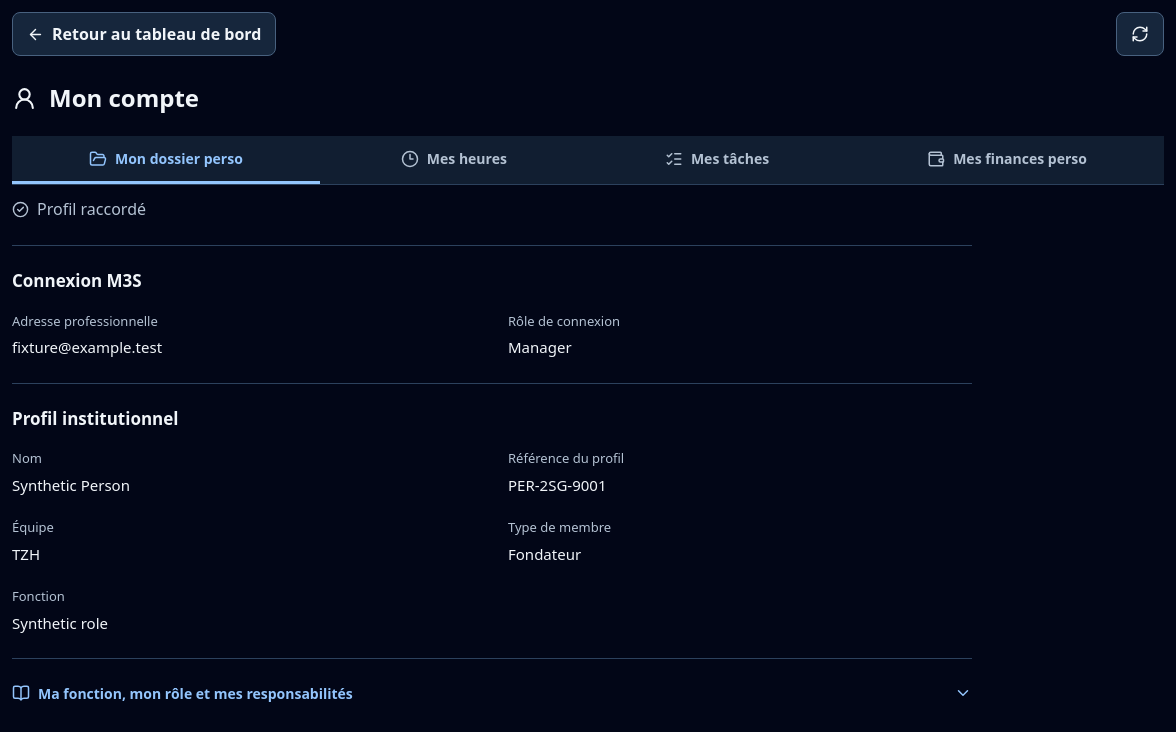
Scenario: refresh failure clears previously displayed private profile
Check: the text "Synthetic Person" is shown, box 12,474 -> 130,494
Click the button named "Actualiser".
click(1140, 34)  # box 1116,12 -> 1164,56
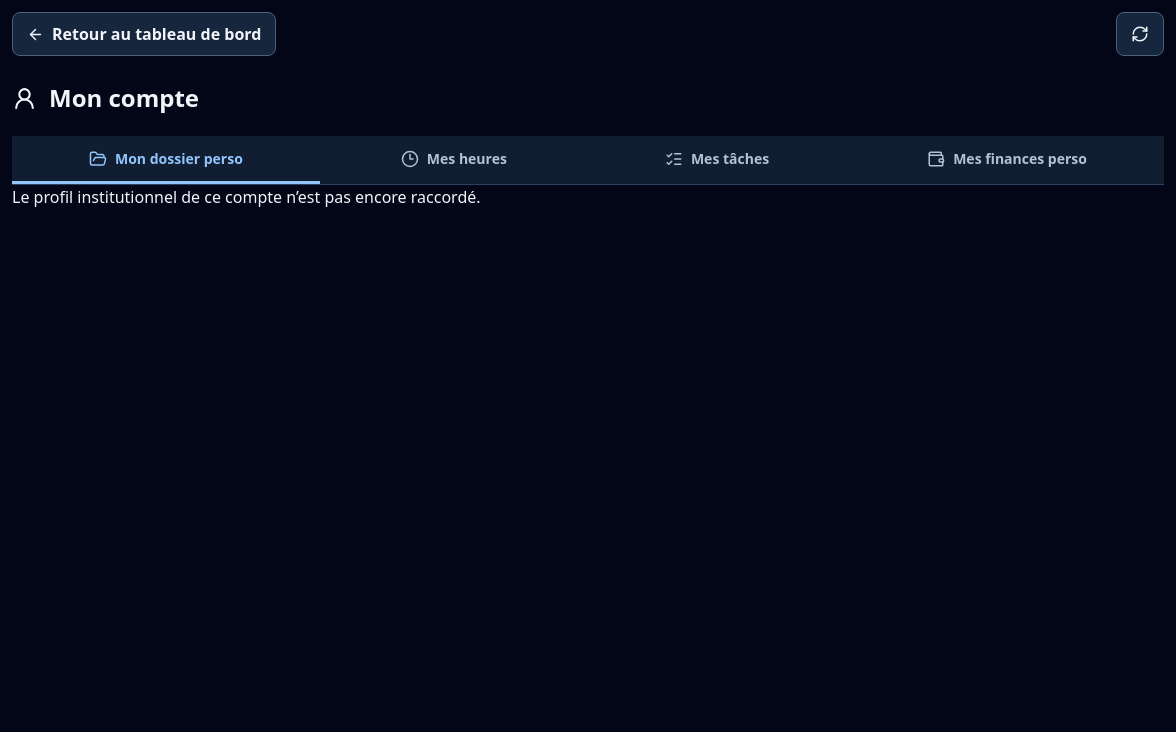
Check: the message shows "pas encore raccordé", box 12,186 -> 480,208
Check: the text "Synthetic Person" is gone
